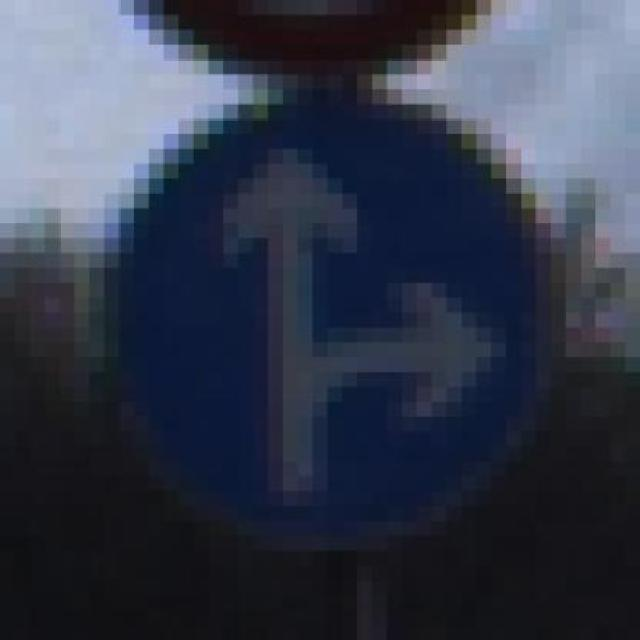Go Straight or Turn Right: (74, 89, 595, 566)
